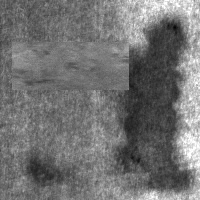patches: (114, 17, 194, 190), (26, 155, 56, 183)
rolled-in_scale: (12, 42, 129, 90)
